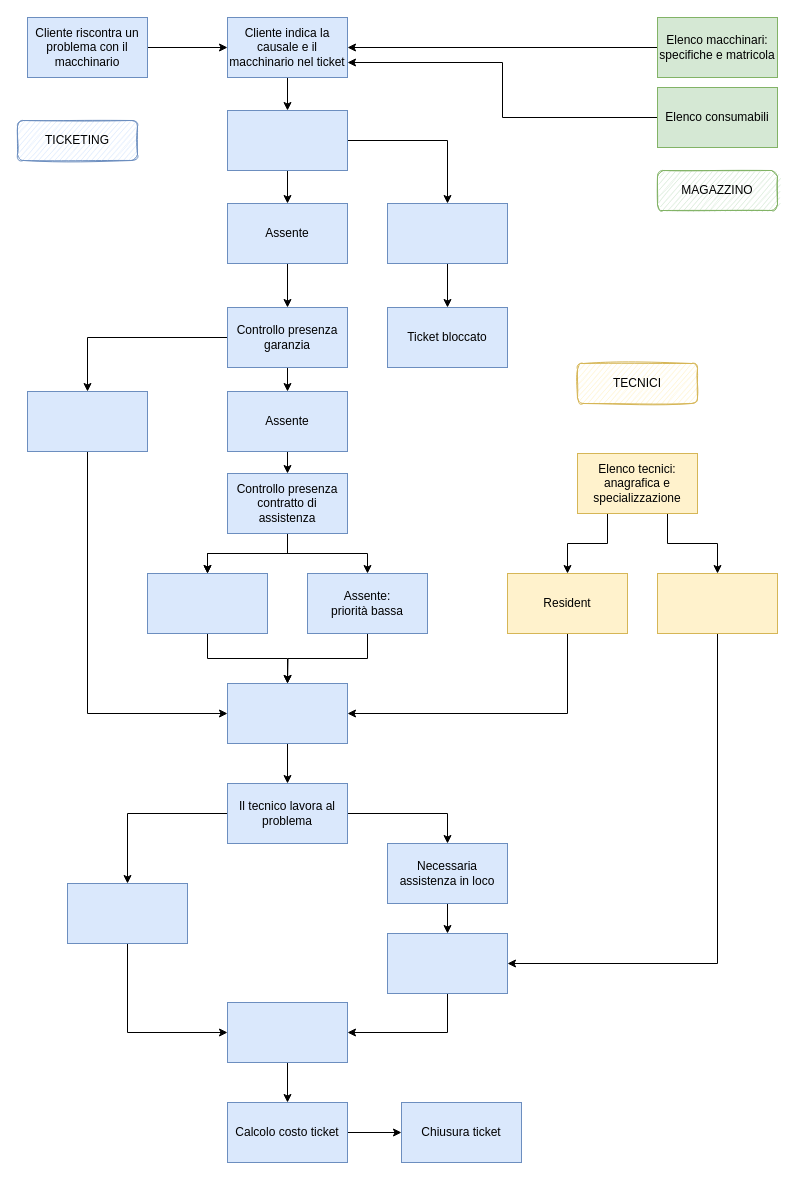
This 795x1180 diagram has some shape labels left out. Here are the shapes that lost their labels. From the top down, the centre of each, then its label:
At [287,140]: "Controllo presenza insolvenza".
At [447,233]: "Presente".
At [87,421]: "Presente: priorità alta".
At [207,603]: "Presente: priorità media".
At [717,603]: "Non resident".
At [287,713]: "Il macchinario viene associato a un tecnico specializzato".
At [127,913]: "Problema risolvibile solo da tecnico resident".
At [447,963]: "Intervento tecnico non resident".
At [287,1032]: "Il tecnico indica il numero di ore impiegate".
